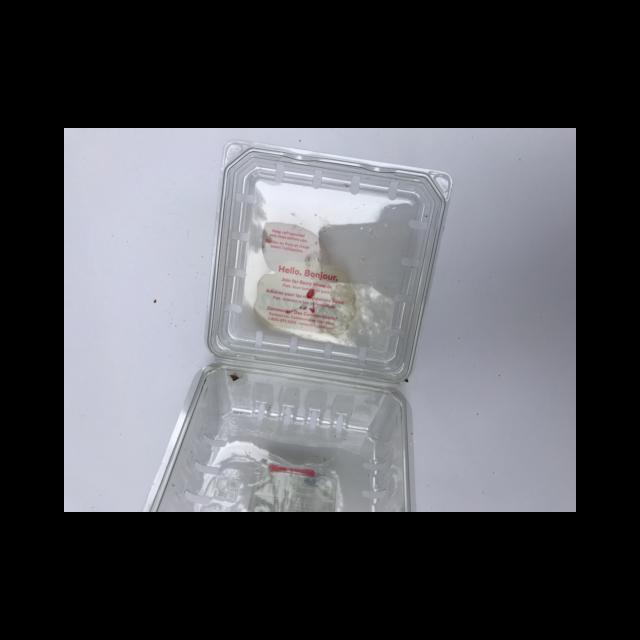plastic: (140, 141, 450, 511), (204, 139, 451, 384), (138, 357, 417, 511)
